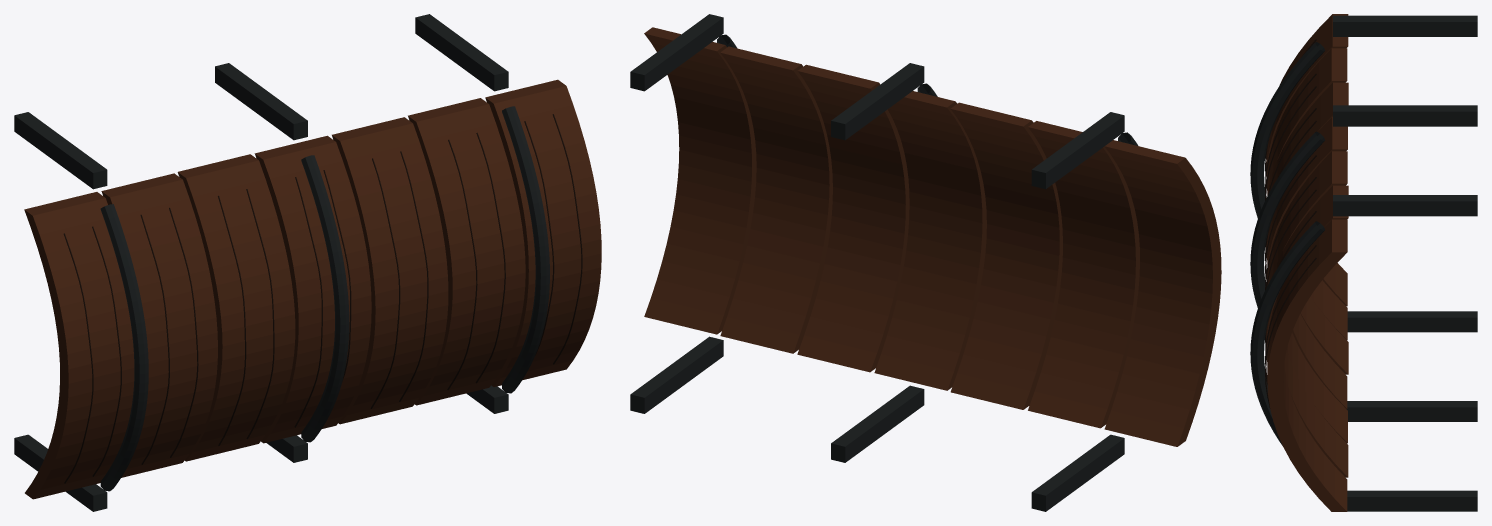
Rendered from SM_GateWardenChest_Lid_1348_v1.obj.
The picture shows the model from 3 angles, left to right: view 1: azimuth 30°, elevation 25°; view 2: azimuth 150°, elevation 25°; view 3: azimuth 270°, elevation 25°; orthographic projection. The views are drawn at different scales.
Parts seen in each view (by area): view 1: Carved_Arched_Oak_Lid_4, Carved_Arched_Oak_Lid_5, Carved_Arched_Oak_Lid_2, Carved_Arched_Oak_Lid_0, Carved_Arched_Oak_Lid_1, Carved_Arched_Oak_Lid_6, Carved_Arched_Oak_Lid_3, Iron_Arch_Reinforcement_-0.311, Iron_Arch_Reinforcement_0.311, Iron_Arch_Reinforcement_0; view 2: Carved_Arched_Oak_Lid_0, Carved_Arched_Oak_Lid_5, Carved_Arched_Oak_Lid_2, Carved_Arched_Oak_Lid_3, Carved_Arched_Oak_Lid_6, Carved_Arched_Oak_Lid_4, Carved_Arched_Oak_Lid_1, Iron_Arch_Reinforcement_-0.311, Iron_Arch_Reinforcement_0.311, Iron_Arch_Reinforcement_0; view 3: Iron_Arch_Reinforcement_0.311, Carved_Arched_Oak_Lid_6, Iron_Arch_Reinforcement_-0.311, Iron_Arch_Reinforcement_0, Carved_Arched_Oak_Lid_4, Carved_Arched_Oak_Lid_3, Carved_Arched_Oak_Lid_1, Carved_Arched_Oak_Lid_5, Carved_Arched_Oak_Lid_2, Carved_Arched_Oak_Lid_0, Raised_Growth_Ring_Grain_6_1.
Part boxes in pixels (x1=…): Carved_Arched_Oak_Lid_4: x1=332, y1=117, x2=448, y2=424; Carved_Arched_Oak_Lid_5: x1=408, y1=98, x2=525, y2=405; Carved_Arched_Oak_Lid_2: x1=177, y1=154, x2=295, y2=461; Carved_Arched_Oak_Lid_0: x1=24, y1=192, x2=134, y2=499; Carved_Arched_Oak_Lid_1: x1=101, y1=173, x2=217, y2=477; Carved_Arched_Oak_Lid_6: x1=485, y1=79, x2=601, y2=386; Carved_Arched_Oak_Lid_3: x1=254, y1=135, x2=371, y2=443; Iron_Arch_Reinforcement_-0.311: x1=14, y1=112, x2=148, y2=511; Iron_Arch_Reinforcement_0.311: x1=415, y1=14, x2=549, y2=413; Iron_Arch_Reinforcement_0: x1=215, y1=63, x2=349, y2=462; Carved_Arched_Oak_Lid_0: x1=1104, y1=140, x2=1221, y2=446; Carved_Arched_Oak_Lid_5: x1=720, y1=46, x2=832, y2=353; Carved_Arched_Oak_Lid_2: x1=950, y1=102, x2=1062, y2=409; Carved_Arched_Oak_Lid_3: x1=874, y1=91, x2=986, y2=390; Carved_Arched_Oak_Lid_6: x1=644, y1=27, x2=756, y2=334; Carved_Arched_Oak_Lid_4: x1=797, y1=64, x2=909, y2=372; Carved_Arched_Oak_Lid_1: x1=1028, y1=121, x2=1139, y2=428; Iron_Arch_Reinforcement_-0.311: x1=1031, y1=112, x2=1138, y2=511; Iron_Arch_Reinforcement_0.311: x1=630, y1=14, x2=737, y2=413; Iron_Arch_Reinforcement_0: x1=831, y1=63, x2=937, y2=462; Iron_Arch_Reinforcement_0.311: x1=1250, y1=195, x2=1477, y2=511; Carved_Arched_Oak_Lid_6: x1=1267, y1=219, x2=1347, y2=511; Iron_Arch_Reinforcement_-0.311: x1=1250, y1=15, x2=1477, y2=332; Iron_Arch_Reinforcement_0: x1=1250, y1=105, x2=1477, y2=421; Carved_Arched_Oak_Lid_4: x1=1267, y1=151, x2=1347, y2=443; Carved_Arched_Oak_Lid_3: x1=1267, y1=117, x2=1347, y2=408; Carved_Arched_Oak_Lid_1: x1=1267, y1=48, x2=1347, y2=340; Carved_Arched_Oak_Lid_5: x1=1266, y1=185, x2=1348, y2=477; Carved_Arched_Oak_Lid_2: x1=1266, y1=82, x2=1348, y2=374; Carved_Arched_Oak_Lid_0: x1=1266, y1=14, x2=1348, y2=306; Raised_Growth_Ring_Grain_6_1: x1=1265, y1=258, x2=1316, y2=408.
Bounding box in the file's own units: 0.827 × 0.502 × 0.333.
